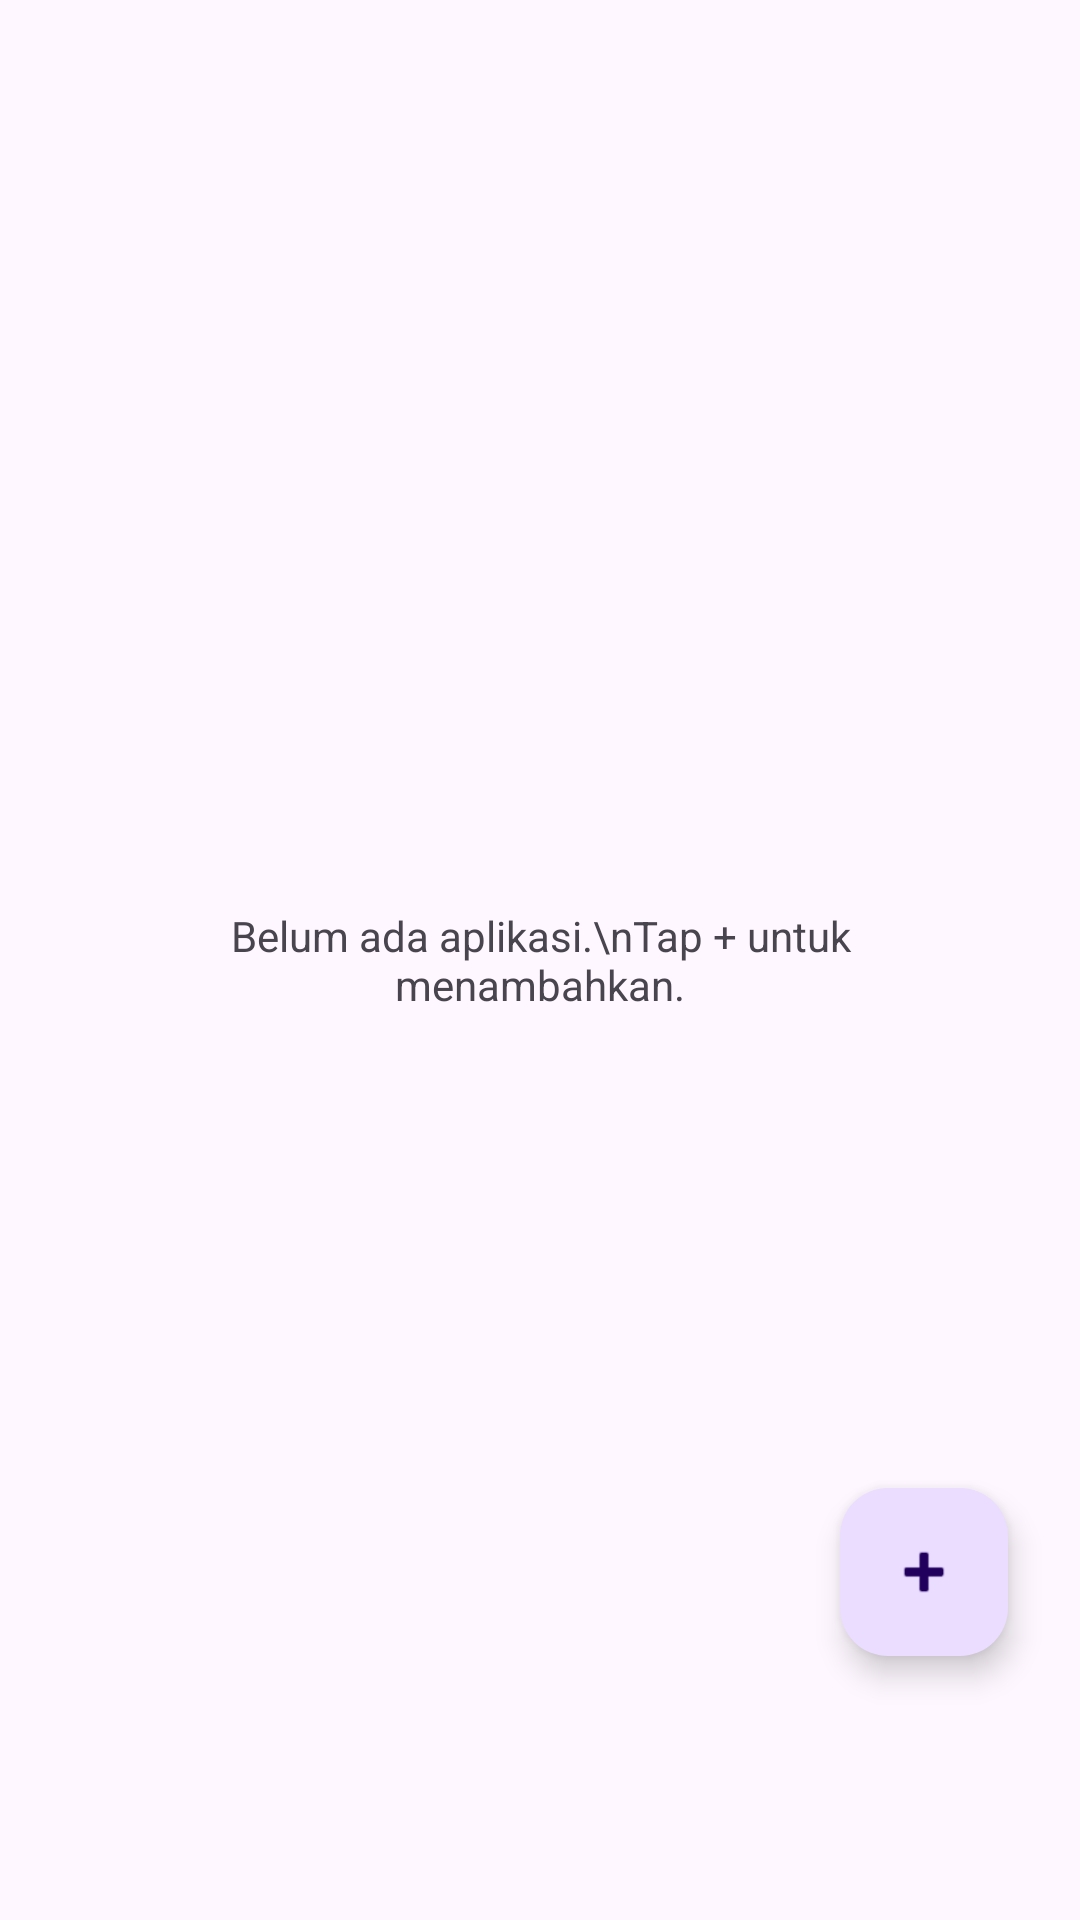

Screen size 1080px×1920px. Icon name, then its box in pixels as [x1, y1, x2, y2]:
Tambah aplikasi: [840, 1488, 1008, 1656]
